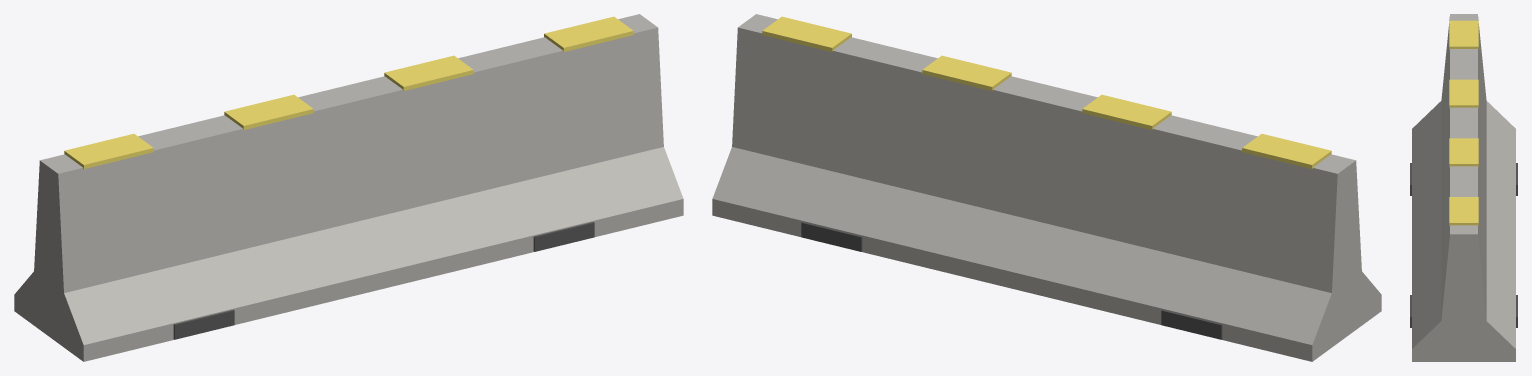
Rendered from jersey_barrier.glb.
3 views of the same model, side by side, from view 1: azimuth 30°, elevation 25°; view 2: azimuth 150°, elevation 25°; view 3: azimuth 270°, elevation 25° (orthographic). The views are drawn at different scales.
Visible parts, largest first — view 1: Barrier; view 2: Barrier; view 3: Barrier.
Part boxes in pixels (x1,y1,x2,y2): Barrier: (14,14,683,361); Barrier: (712,14,1381,361); Barrier: (1410,14,1517,361).
Size of the model in its own units: 3 by 0.825 by 0.62.
